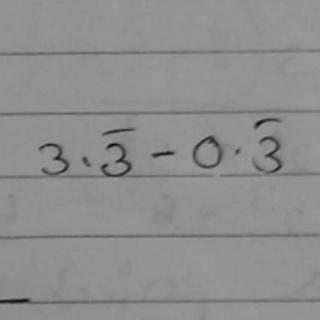.: (76, 153, 94, 167), (231, 146, 244, 160)
3: (96, 141, 132, 178), (35, 142, 70, 179), (251, 137, 283, 177)
